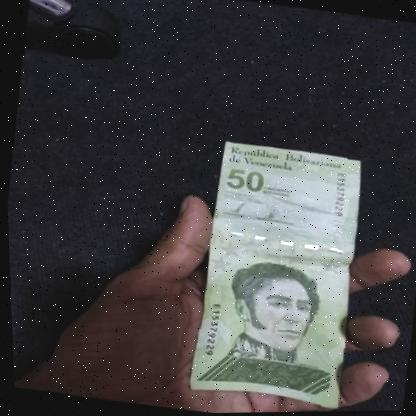fifty-front-vef: (177, 137, 372, 413)
